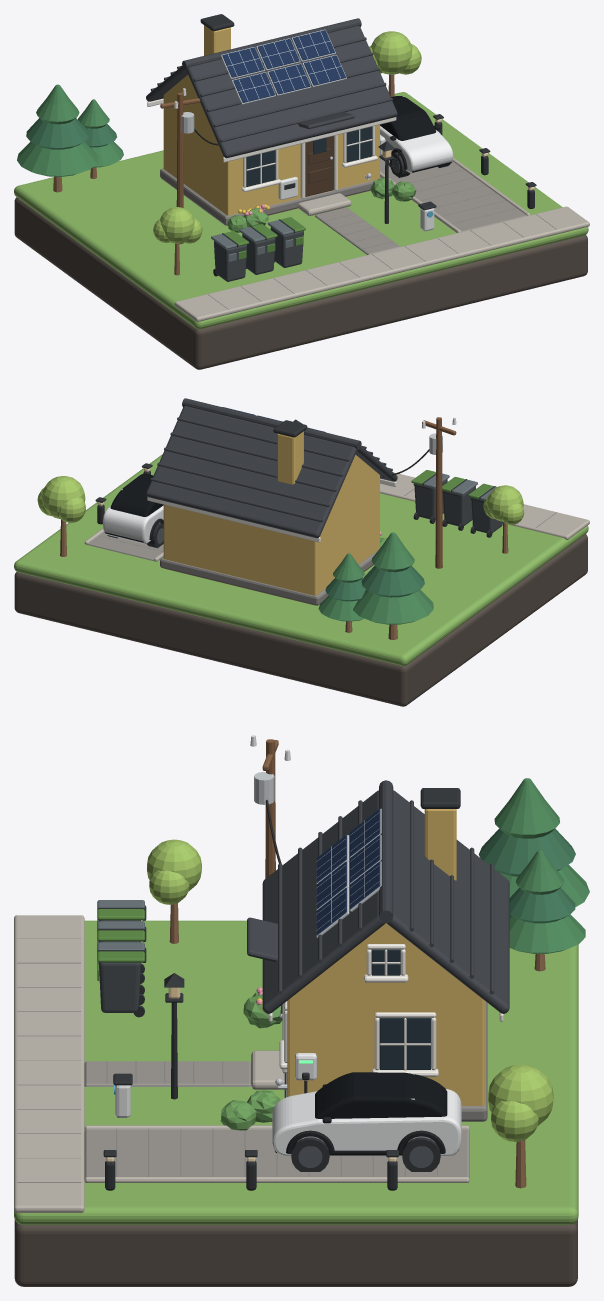
The model's file is island.glb.
The picture shows the model from 3 angles, top to bottom: view 1: azimuth 30°, elevation 25°; view 2: azimuth 150°, elevation 25°; view 3: azimuth 270°, elevation 25°; orthographic projection. The views are drawn at different scales.
Visible parts, largest first — view 1: island_grass, island_base, house_roof, island_stone, house_brick, island_paving, solar_solar, island_pine, island_leaf, house_trim, island_pinedark, windows (+14 smaller); view 2: island_grass, island_base, house_roof, house_brick, island_pine, island_leaf, island_stone, island_pinedark, house_plinth, car_body_carpaint, car_body_carglass, island_wood (+6 smaller); view 3: island_grass, island_base, house_roof, island_stone, house_brick, island_paving, island_pine, island_leaf, car_body_carpaint, car_body_carglass, solar_solar, island_pinedark (+16 smaller).
Boxes of the visible parts, <box> form: island_grass: <box>14,92,588,329</box>; island_base: <box>14,197,587,369</box>; house_roof: <box>146,18,397,158</box>; island_stone: <box>174,157,589,321</box>; house_brick: <box>163,25,379,215</box>; island_paving: <box>315,155,526,254</box>; solar_solar: <box>222,30,345,102</box>; island_pine: <box>17,84,123,176</box>; island_leaf: <box>153,31,421,243</box>; house_trim: <box>147,98,396,198</box>; island_pinedark: <box>26,118,116,149</box>; windows: <box>246,126,372,186</box>; island_grass: <box>14,454,588,665</box>; island_base: <box>14,534,587,706</box>; house_roof: <box>146,398,397,538</box>; house_brick: <box>163,431,379,604</box>; island_pine: <box>318,532,433,624</box>; island_leaf: <box>37,476,524,524</box>; island_stone: <box>84,472,589,561</box>; island_pinedark: <box>325,565,424,601</box>; house_plinth: <box>160,550,378,605</box>; car_body_carpaint: <box>103,505,163,543</box>; car_body_carglass: <box>110,474,163,516</box>; island_wood: <box>422,417,456,568</box>; island_grass: <box>14,920,578,1224</box>; island_base: <box>14,1219,577,1286</box>; house_roof: <box>247,780,509,1013</box>; island_stone: <box>14,915,469,1212</box>; house_brick: <box>287,809,484,1105</box>; island_paving: <box>84,1061,469,1178</box>; island_pine: <box>494,778,589,953</box>; island_leaf: <box>147,839,553,1141</box>; car_body_carpaint: <box>272,1089,461,1156</box>; car_body_carglass: <box>315,1072,447,1118</box>; solar_solar: <box>316,809,380,935</box>; island_pinedark: <box>478,828,575,923</box>.
Bounding box in the file's own units: 10.98 × 5.53 × 8.98.
